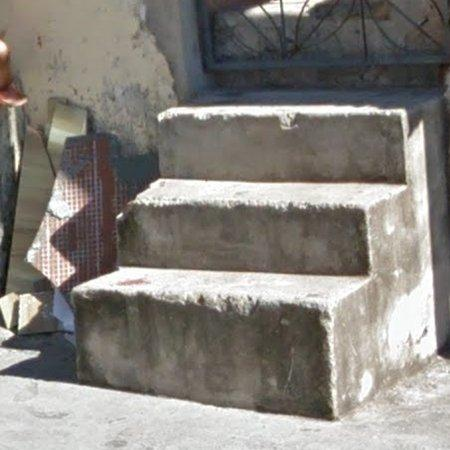stairs: (72, 105, 438, 418)
